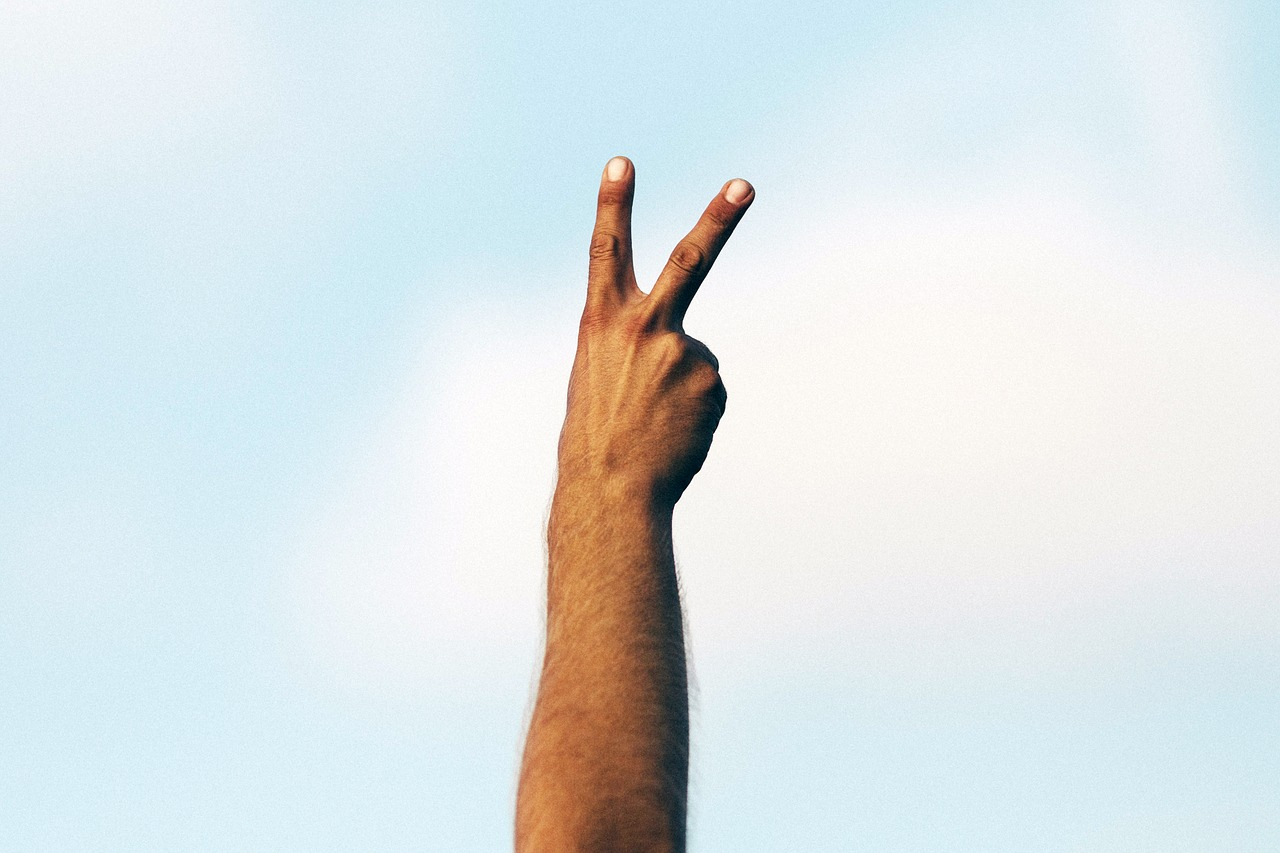peacesign: (533, 138, 774, 532)
